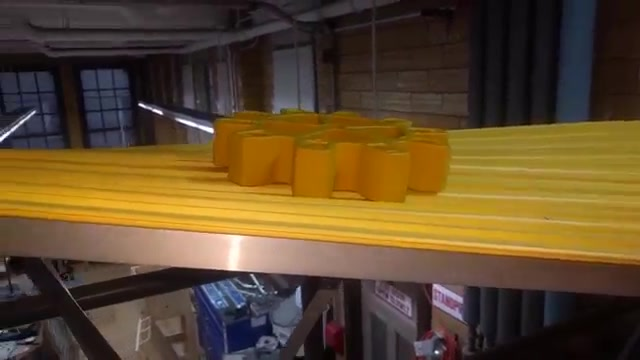gear: (209, 95, 458, 208)
